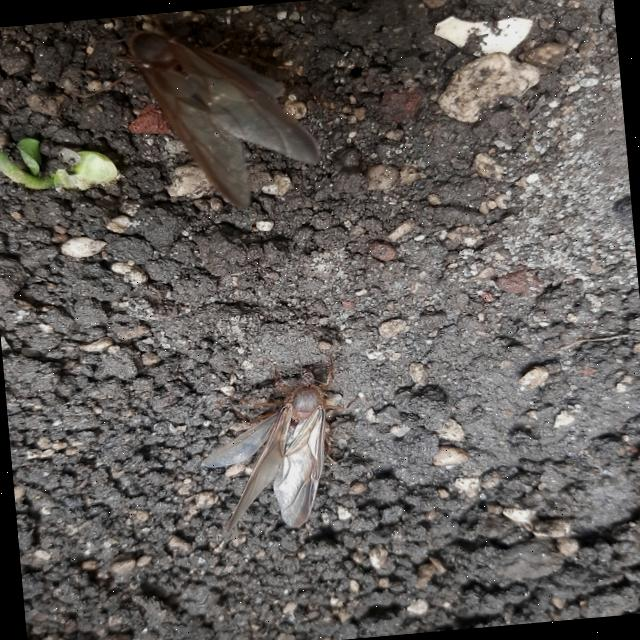Alive-Male-Alate: (64, 0, 325, 222), (191, 347, 371, 536)
